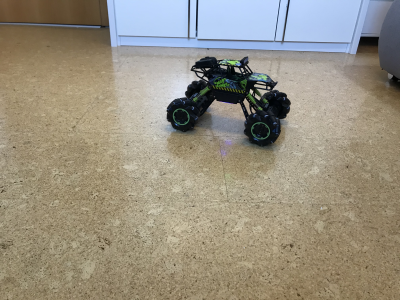remote control car: (163, 54, 294, 148)
